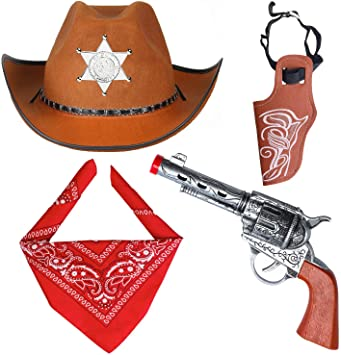Arma Falsa: (144, 148, 341, 347)
